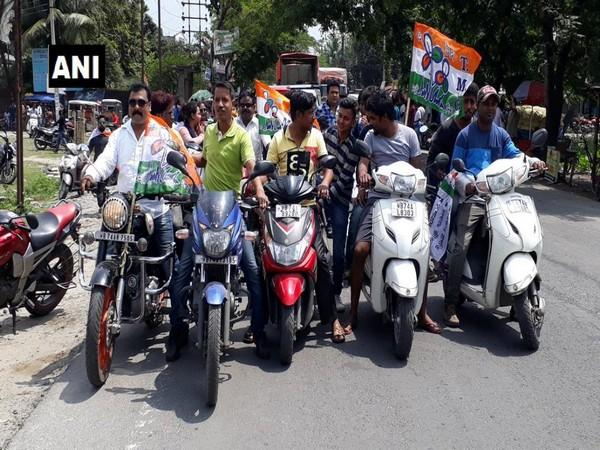nohelmet: (358, 91, 412, 134), (283, 87, 325, 138), (119, 82, 155, 125), (202, 80, 236, 122), (475, 87, 506, 127), (452, 81, 482, 120), (88, 114, 110, 130)
